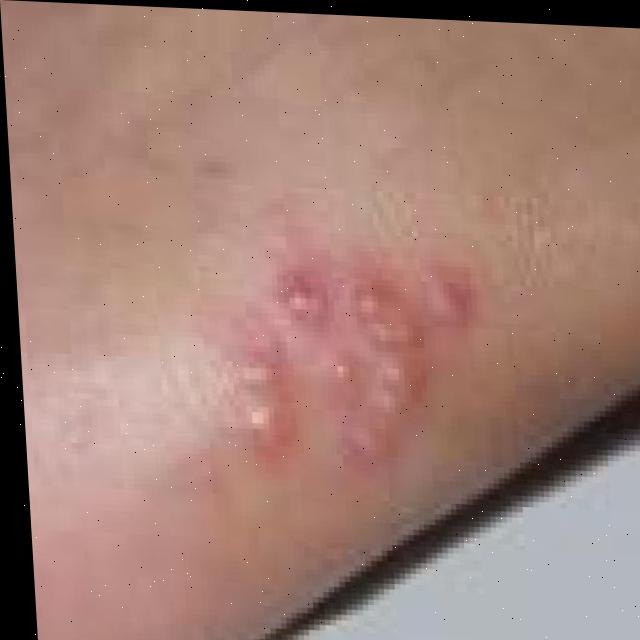Shingles: (226, 246, 487, 475)
